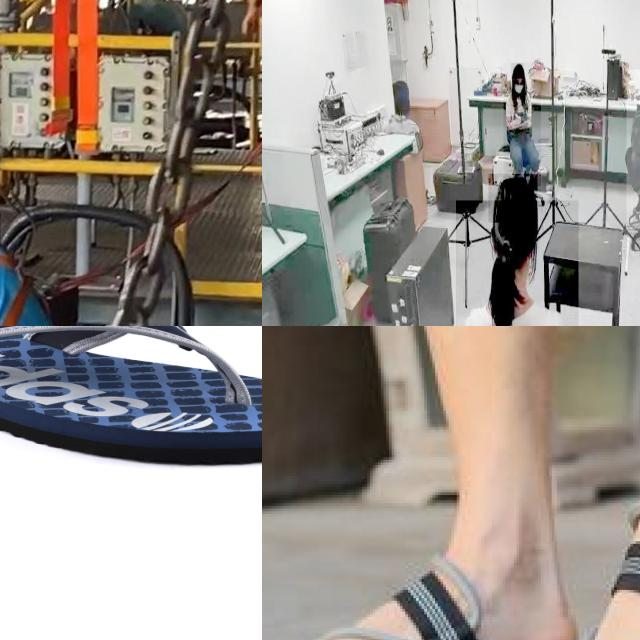Harness: (0, 240, 72, 326)
Sandals: (0, 326, 262, 468), (262, 563, 576, 640)
face_mask: (512, 80, 525, 100)
head_nohelmet: (488, 174, 538, 224), (511, 62, 525, 80)
person: (456, 200, 579, 326), (504, 63, 542, 187), (626, 70, 640, 230)
